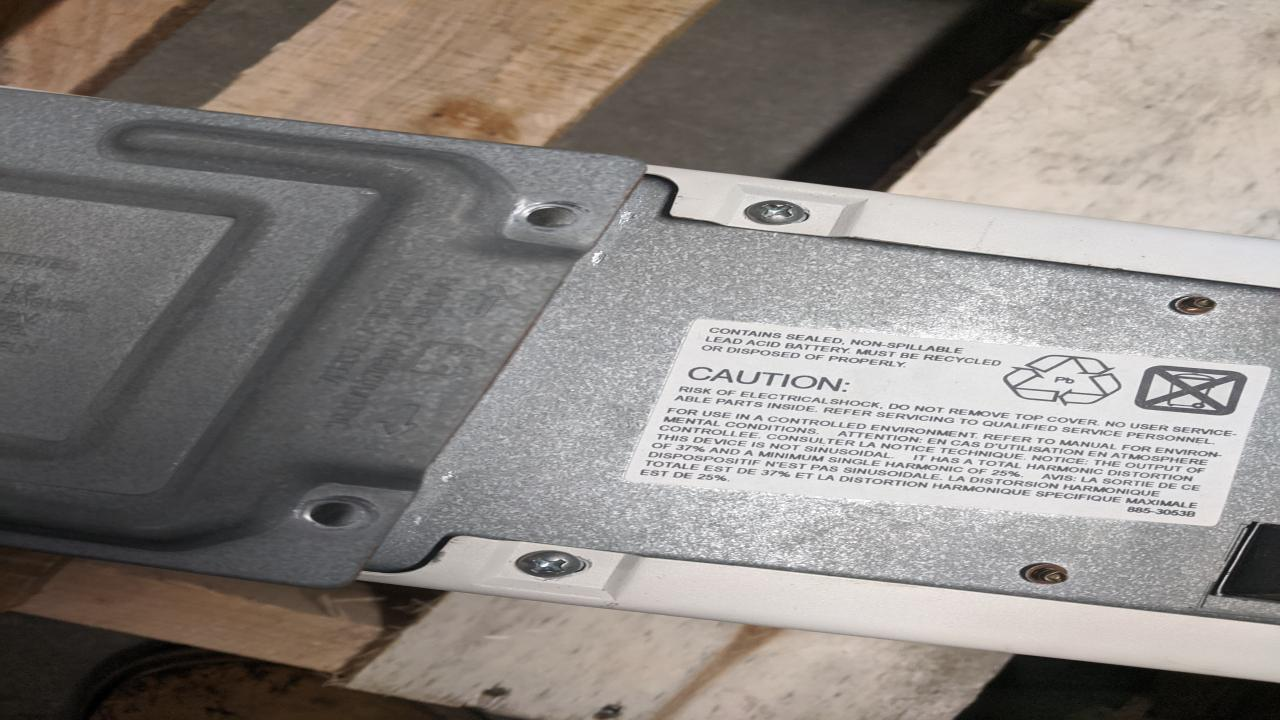CRS: (517, 550, 582, 576), (747, 199, 806, 225)
